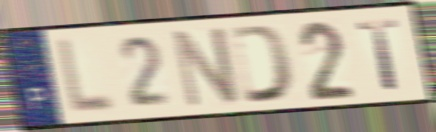2: (296, 16, 358, 103), (119, 34, 174, 111)
D: (228, 22, 296, 106)
L: (55, 34, 118, 117)
N: (170, 24, 243, 112)
T: (354, 16, 403, 93)
